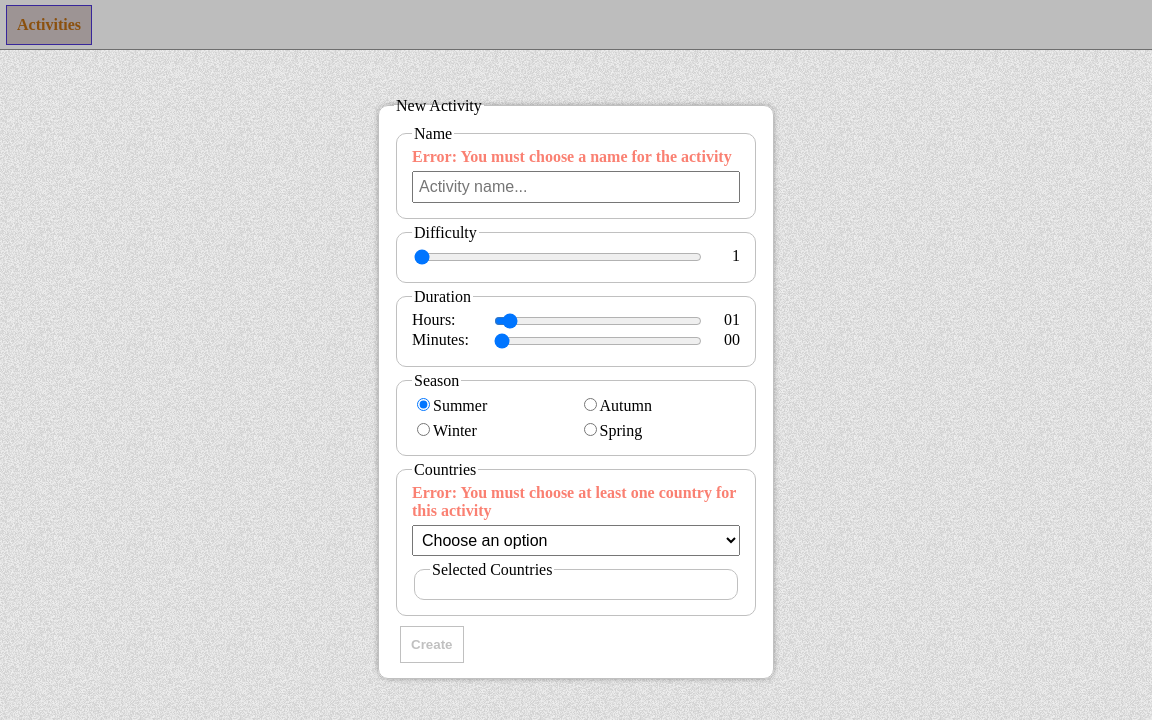
Test: Displaying errors: › Error messages on activity name input › Displays an error message when the activity name contains invalid characters
Step 1. Type "$%&+" into the field named "activity_name" → coordinates (576, 186), box [412,170,740,202]
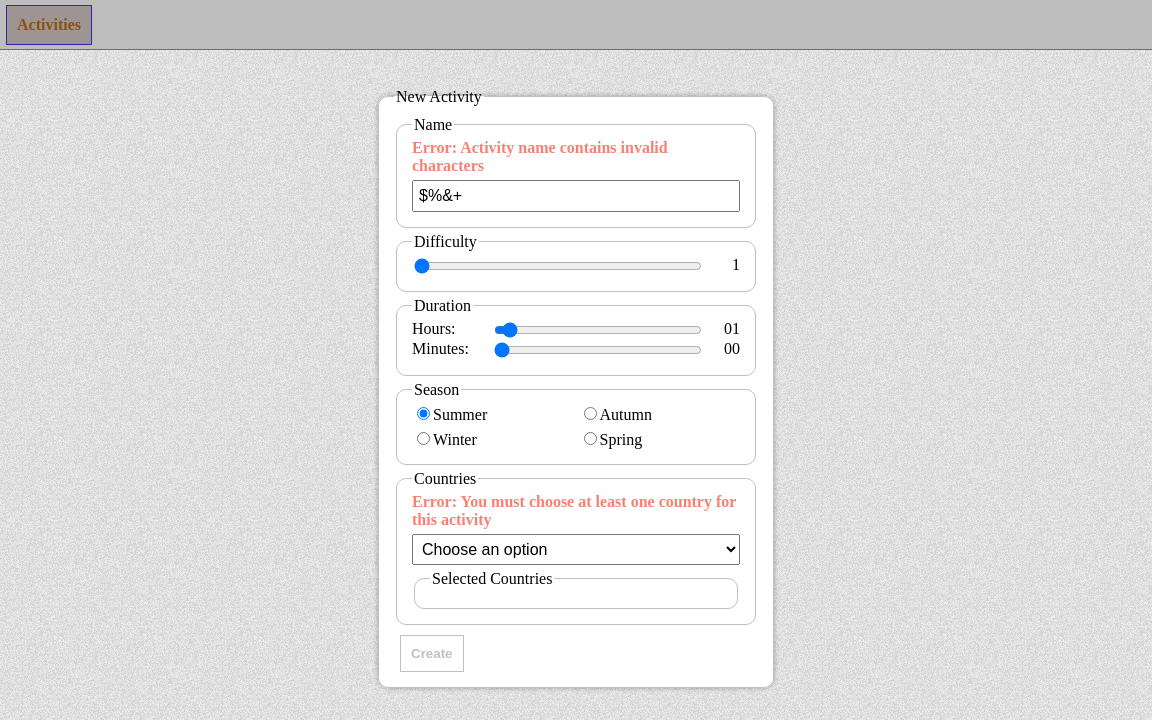
Now the text "Error: Activity name contains invalid characters" is shown, box [412,138,668,174]
